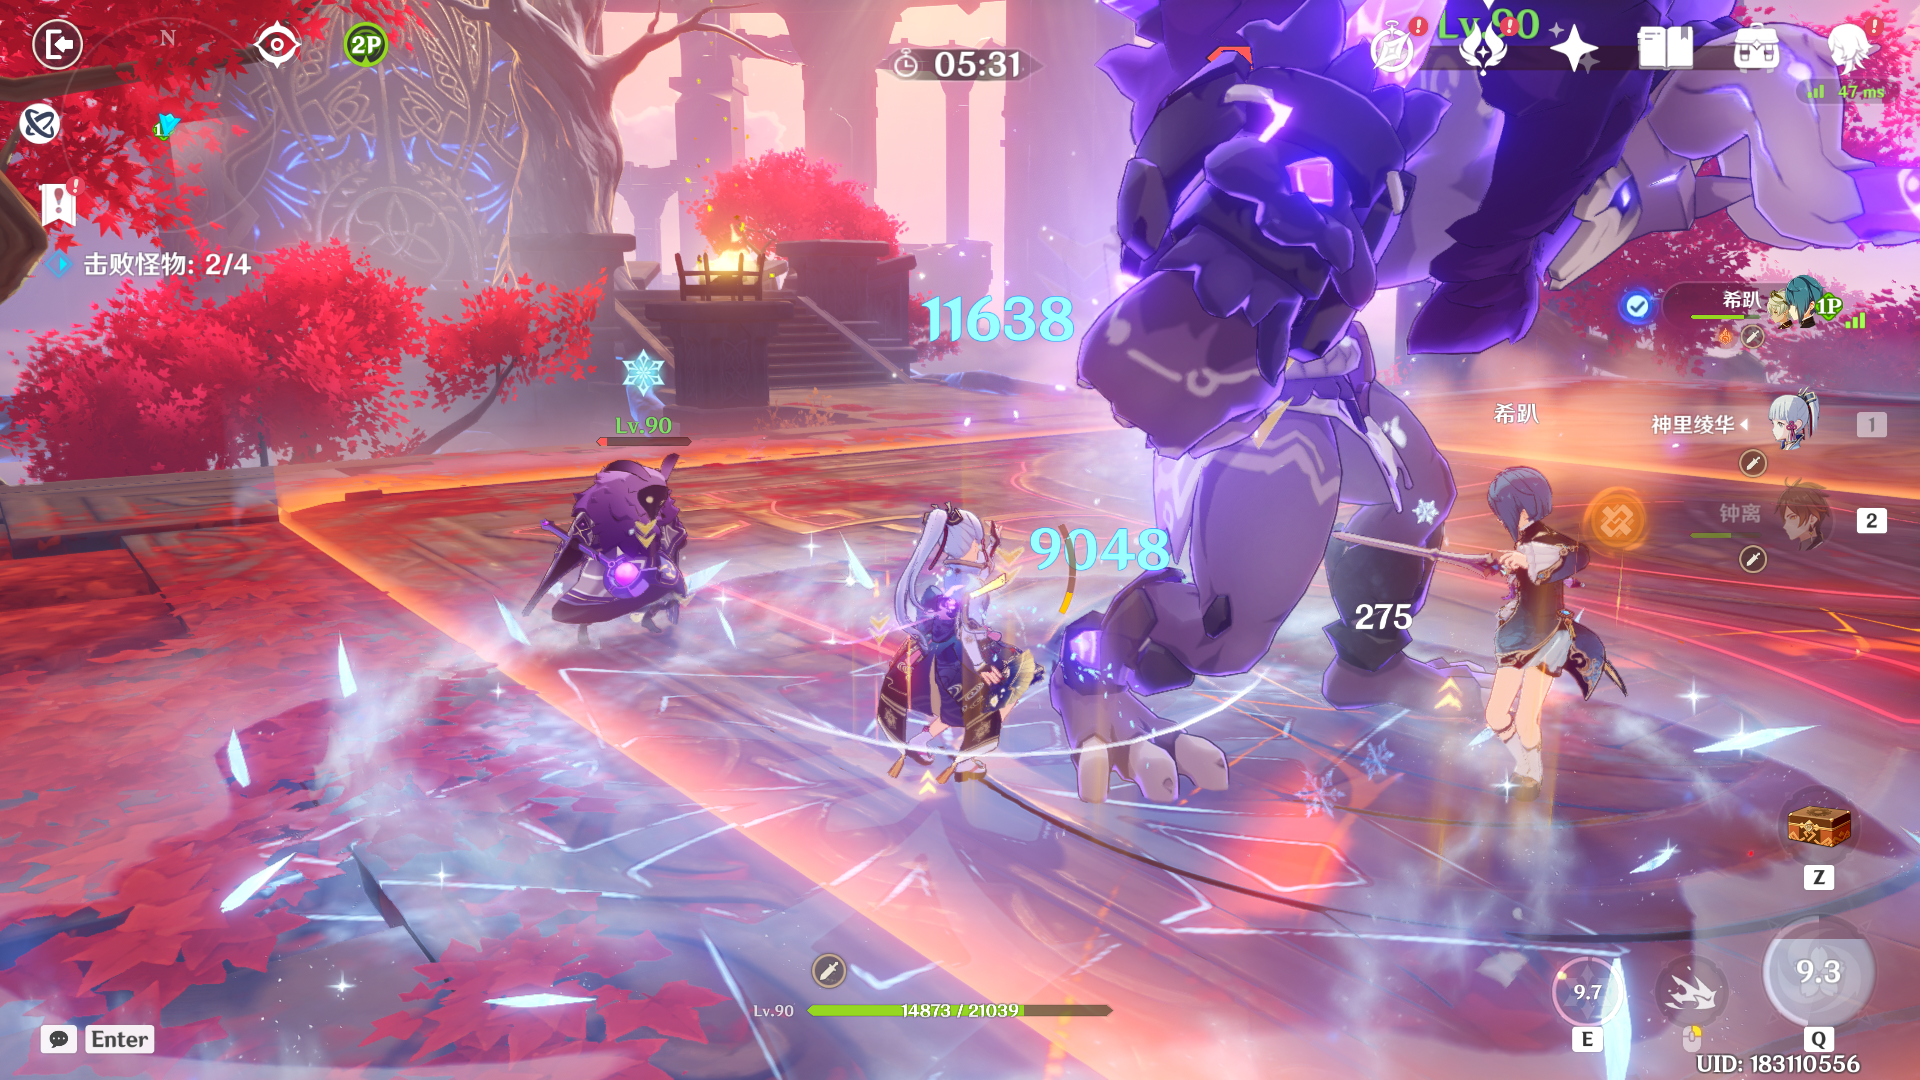bosshili: (1026, 1, 1895, 844)
caster: (502, 435, 725, 665)
character: (1382, 430, 1672, 841), (832, 489, 1063, 829)
